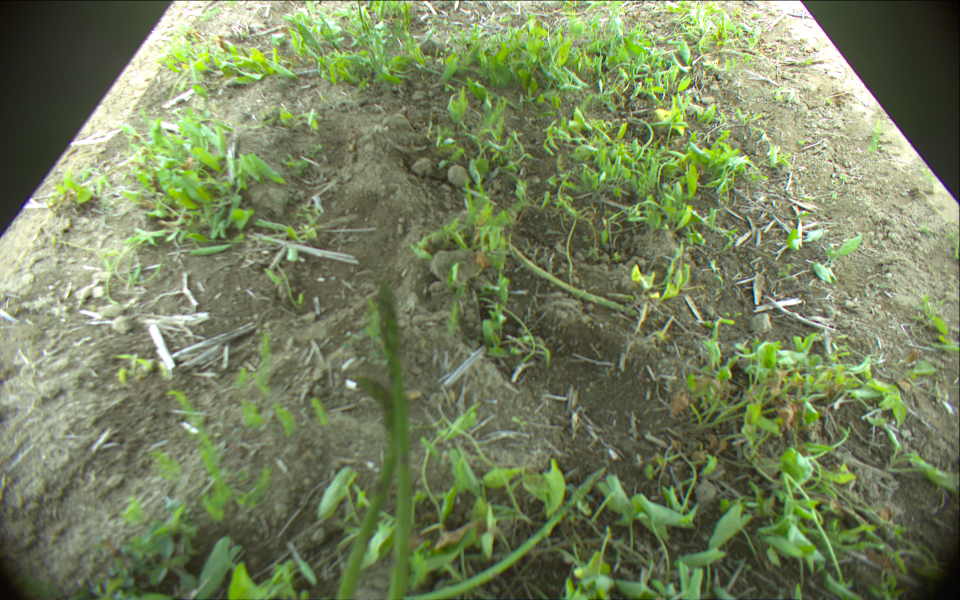aspa: (407, 468, 605, 600), (335, 378, 398, 600), (376, 282, 412, 600), (501, 238, 637, 314)
